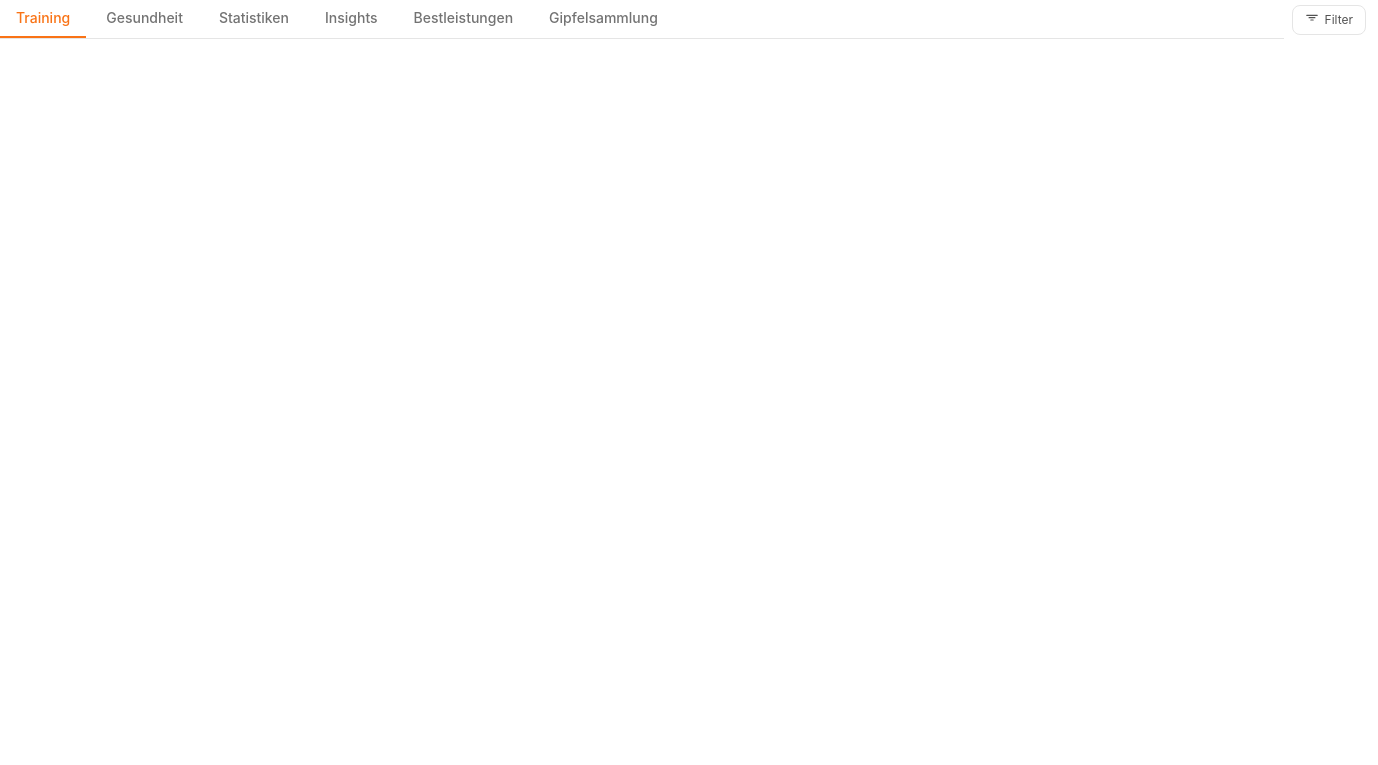
Test case: AnalyticsPage electric modifier label › uses E-Antrieb for the generic electric filter
The width and height of the screenshot is (1378, 765).
Click the button "Filter".
click(1329, 20)  # box [1292, 4, 1366, 34]
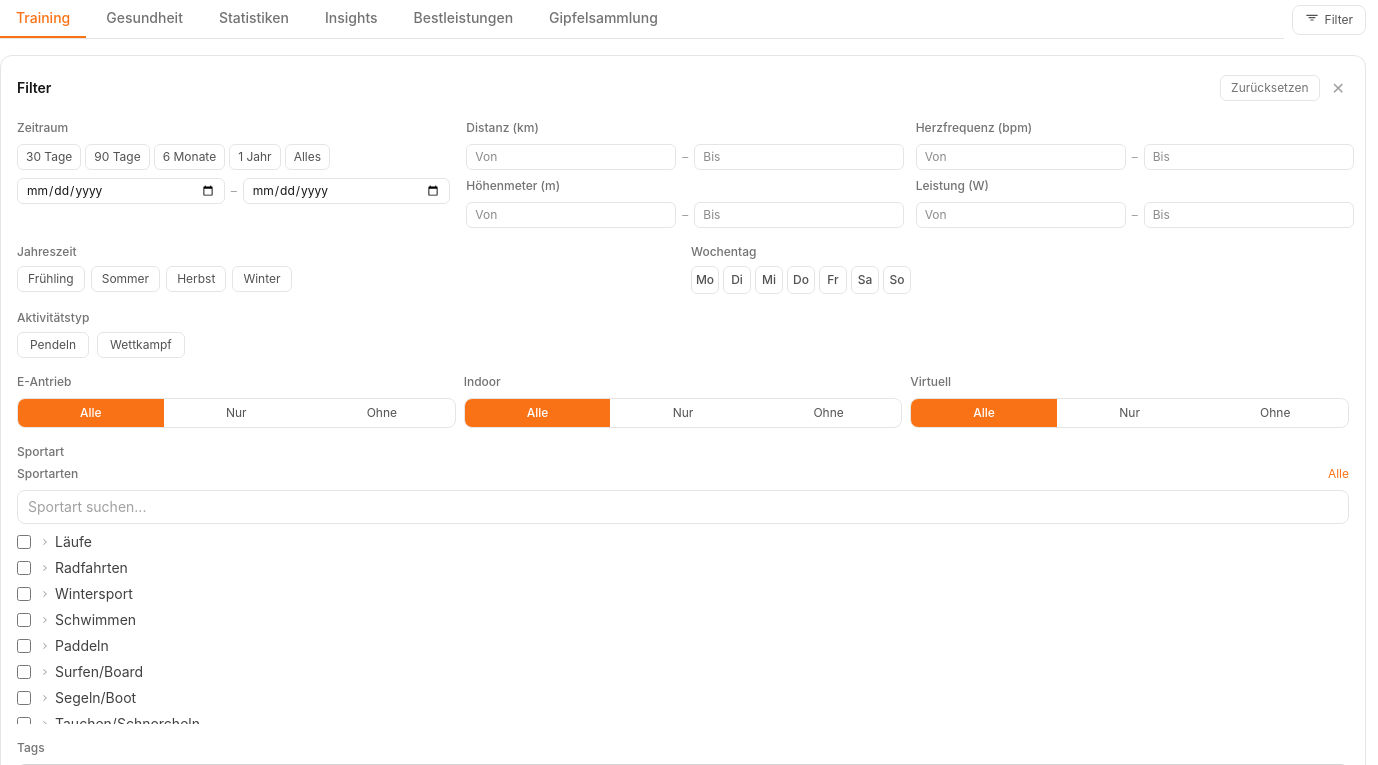
Expected: the text "E-Antrieb" is shown, [17, 374, 71, 389]
